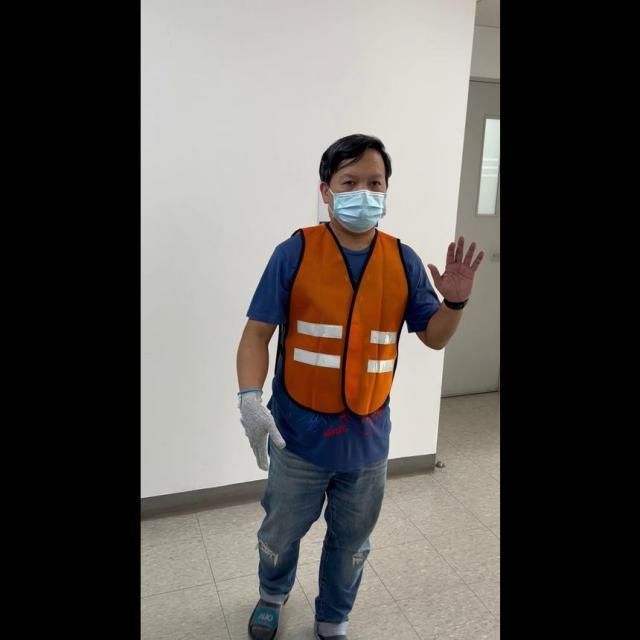bare_hand: (426, 231, 482, 304)
gloved_hand: (233, 387, 285, 467)
